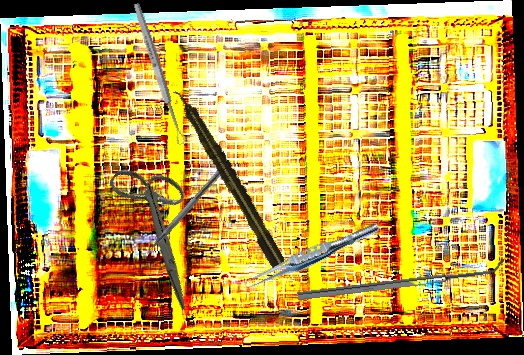Chopper: (134, 157, 229, 263)
Handpiece: (169, 84, 288, 270)
Iris Scissors: (75, 149, 243, 311)
Spatula Surgical: (296, 258, 506, 301)
Surgical Spoon: (131, 2, 187, 146)
Tissue Forceps: (243, 216, 383, 295)
